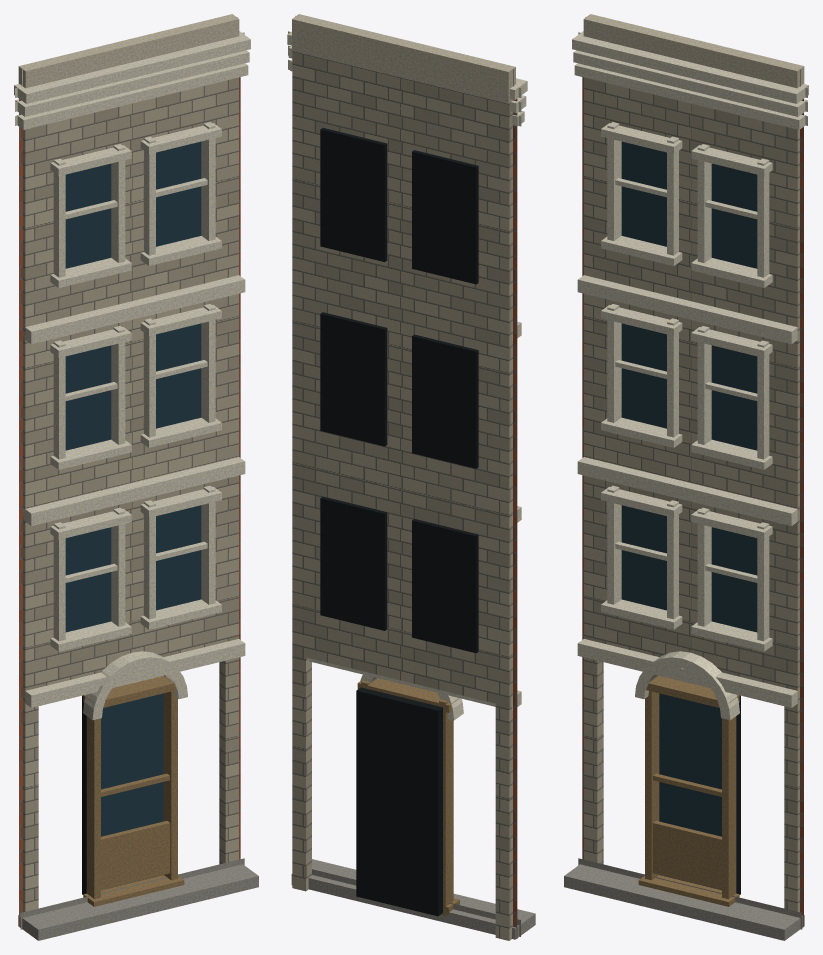
The model's file is OFFC17_lod2.glb.
3 renders of one model, left to right at view 1: azimuth 30°, elevation 25°; view 2: azimuth 150°, elevation 25°; view 3: azimuth 330°, elevation 25°, orthographic.
Visible parts, largest first — view 1: OFFC17_FRONT_LOD2; view 2: OFFC17_FRONT_LOD2; view 3: OFFC17_FRONT_LOD2.
Part boxes in pixels (x1,y1,x2,y2): OFFC17_FRONT_LOD2: (14,14,258,940); OFFC17_FRONT_LOD2: (287,14,535,940); OFFC17_FRONT_LOD2: (564,14,808,940).
Bounding box in the file's own units: 3.44 × 12.26 × 0.68.
Materials: 9 (7 with a texture image).
